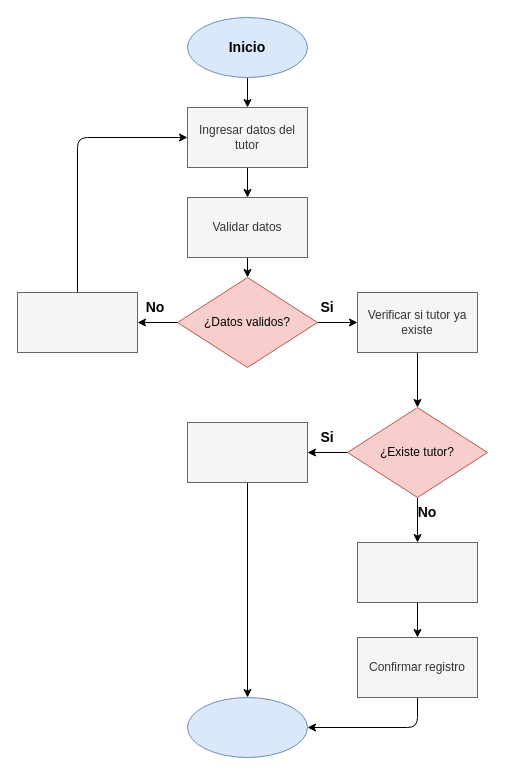
Image size: 505x775. Some labels were removed from this diagram. Each missing label, with the centre of its shape:
"Datos invalidos" belongs at point (77, 322).
"Fin" belongs at point (247, 727).
"Registrar tutor" belongs at point (417, 572).
"Ya existe tutor" belongs at point (247, 452).
